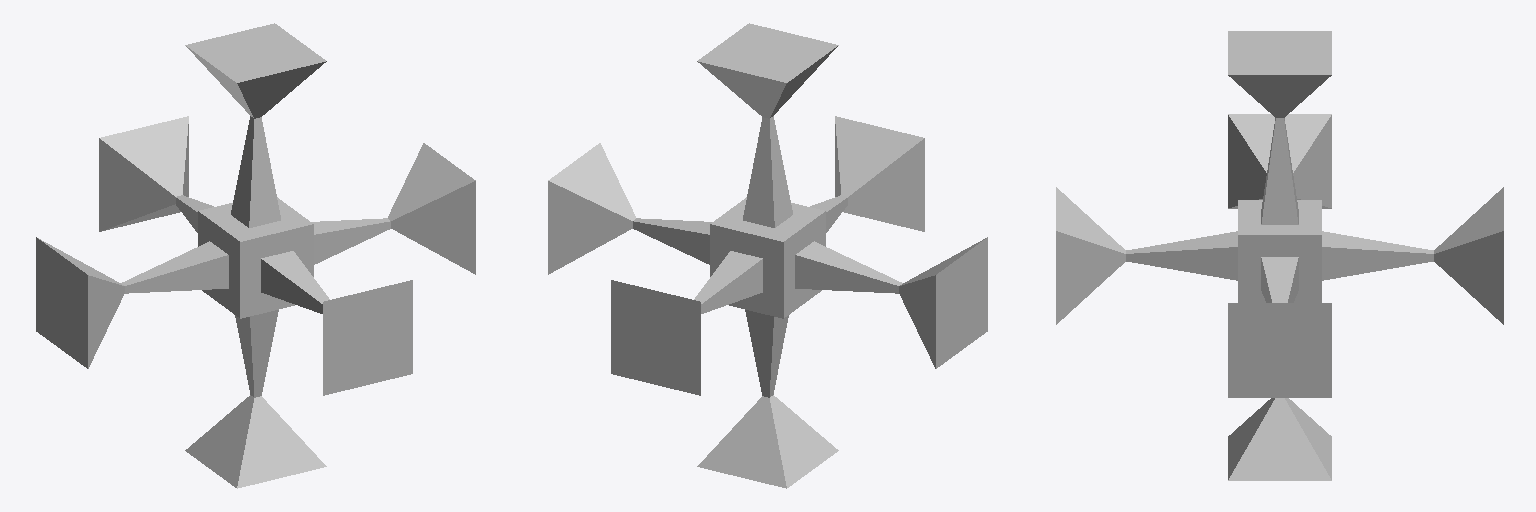
The model's file is WackyCube2_test.obj.
3 views of the same model, side by side, from view 1: azimuth 30°, elevation 25°; view 2: azimuth 150°, elevation 25°; view 3: azimuth 270°, elevation 25° (orthographic).
Visible parts, largest first — view 1: Cube; view 2: Cube; view 3: Cube.
Boxes of the visible parts, <box> form: Cube: <box>36,23,475,488</box>; Cube: <box>548,23,987,488</box>; Cube: <box>1056,31,1503,480</box>.
Size of the model in its own units: 10.55 by 10.55 by 10.55.